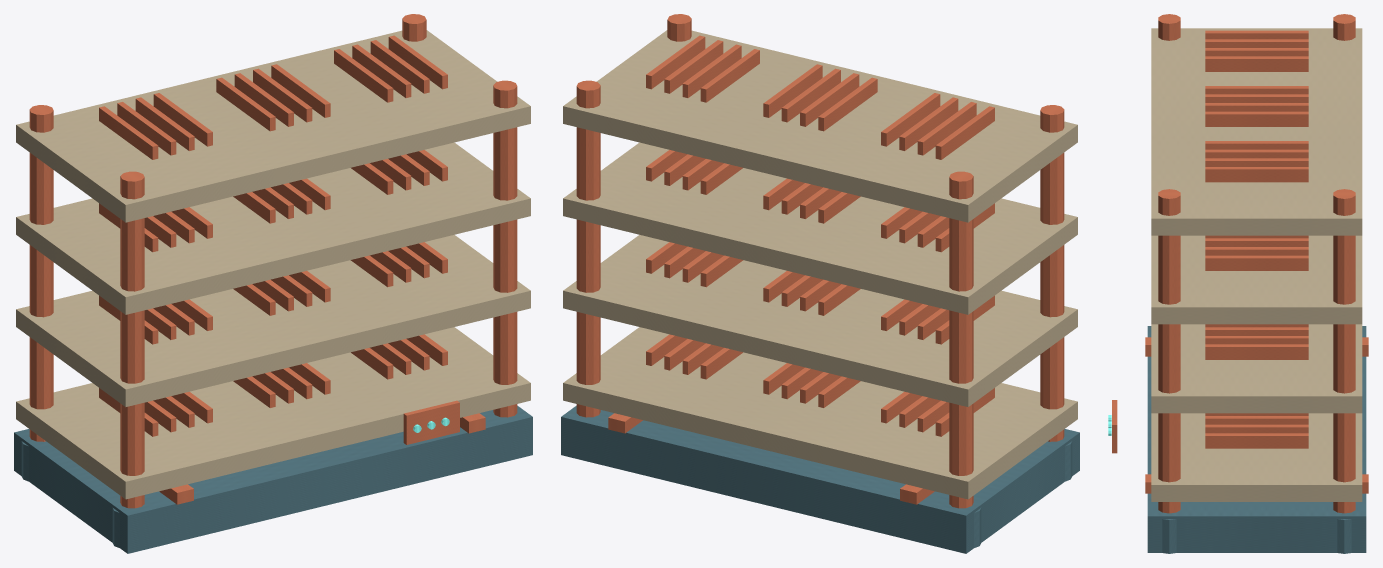
Rendered from atlas100-s047-a01.glb.
3 views of the same model, side by side, from view 1: azimuth 30°, elevation 25°; view 2: azimuth 150°, elevation 25°; view 3: azimuth 270°, elevation 25° (orthographic). The views are drawn at different scales.
Visible parts, largest first — view 1: atlas100-s047-a01:part-050, atlas100-s047-a01:part-024, atlas100-s047-a01:part-037, atlas100-s047-a01:part-011, atlas100-s047-a01:part-000, atlas100-s047-a01:part-005, atlas100-s047-a01:part-009, atlas100-s047-a01:part-003, atlas100-s047-a01:part-063, atlas100-s047-a01:part-051, atlas100-s047-a01:part-055, atlas100-s047-a01:part-059 (+16 smaller); view 2: atlas100-s047-a01:part-050, atlas100-s047-a01:part-011, atlas100-s047-a01:part-024, atlas100-s047-a01:part-037, atlas100-s047-a01:part-000, atlas100-s047-a01:part-003, atlas100-s047-a01:part-007, atlas100-s047-a01:part-005, atlas100-s047-a01:part-051, atlas100-s047-a01:part-055, atlas100-s047-a01:part-059, atlas100-s047-a01:part-054 (+15 smaller); view 3: atlas100-s047-a01:part-050, atlas100-s047-a01:part-024, atlas100-s047-a01:part-037, atlas100-s047-a01:part-011, atlas100-s047-a01:part-000, atlas100-s047-a01:part-007, atlas100-s047-a01:part-009, atlas100-s047-a01:part-023, atlas100-s047-a01:part-036, atlas100-s047-a01:part-049, atlas100-s047-a01:part-054, atlas100-s047-a01:part-058 (+22 smaller).
Part boxes in pixels (<box>): atlas100-s047-a01:part-050: <box>16,30,530,222</box>; atlas100-s047-a01:part-024: <box>16,235,530,406</box>; atlas100-s047-a01:part-037: <box>16,142,530,314</box>; atlas100-s047-a01:part-011: <box>16,327,530,499</box>; atlas100-s047-a01:part-000: <box>14,405,532,553</box>; atlas100-s047-a01:part-005: <box>120,171,144,508</box>; atlas100-s047-a01:part-009: <box>493,80,517,417</box>; atlas100-s047-a01:part-003: <box>29,105,53,441</box>; atlas100-s047-a01:part-063: <box>403,400,459,444</box>; atlas100-s047-a01:part-051: <box>99,106,158,159</box>; atlas100-s047-a01:part-055: <box>216,77,275,131</box>; atlas100-s047-a01:part-059: <box>334,49,393,102</box>; atlas100-s047-a01:part-050: <box>563,30,1077,222</box>; atlas100-s047-a01:part-011: <box>563,327,1077,499</box>; atlas100-s047-a01:part-024: <box>563,235,1077,406</box>; atlas100-s047-a01:part-037: <box>563,142,1077,314</box>; atlas100-s047-a01:part-000: <box>561,405,1079,553</box>; atlas100-s047-a01:part-003: <box>949,171,973,508</box>; atlas100-s047-a01:part-007: <box>576,80,600,417</box>; atlas100-s047-a01:part-005: <box>1040,105,1064,441</box>; atlas100-s047-a01:part-051: <box>935,106,994,159</box>; atlas100-s047-a01:part-055: <box>818,77,877,131</box>; atlas100-s047-a01:part-059: <box>700,49,759,102</box>; atlas100-s047-a01:part-054: <box>881,93,940,146</box>; atlas100-s047-a01:part-050: <box>1151,28,1362,235</box>; atlas100-s047-a01:part-024: <box>1151,324,1362,413</box>; atlas100-s047-a01:part-037: <box>1151,235,1362,324</box>; atlas100-s047-a01:part-011: <box>1151,413,1362,501</box>; atlas100-s047-a01:part-000: <box>1147,326,1366,552</box>; atlas100-s047-a01:part-007: <box>1333,189,1355,513</box>; atlas100-s047-a01:part-009: <box>1158,189,1180,513</box>; atlas100-s047-a01:part-023: <box>1205,433,1308,448</box>; atlas100-s047-a01:part-036: <box>1205,344,1308,359</box>; atlas100-s047-a01:part-049: <box>1205,255,1308,270</box>; atlas100-s047-a01:part-054: <box>1205,56,1308,71</box>; atlas100-s047-a01:part-058: <box>1205,111,1308,126</box>.
Size of the model in its own units: 2.91 by 2.53 by 1.66.
Materials: 4 (4 with a texture image).
